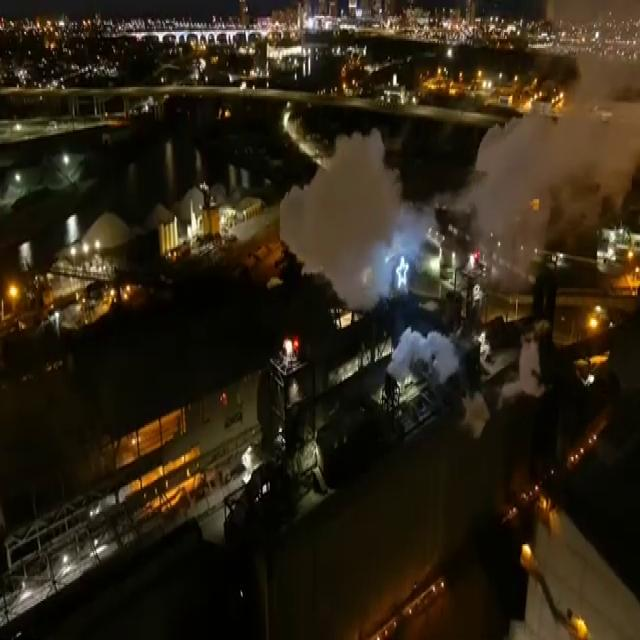smoke: (463, 101, 614, 290), (279, 126, 404, 315)
